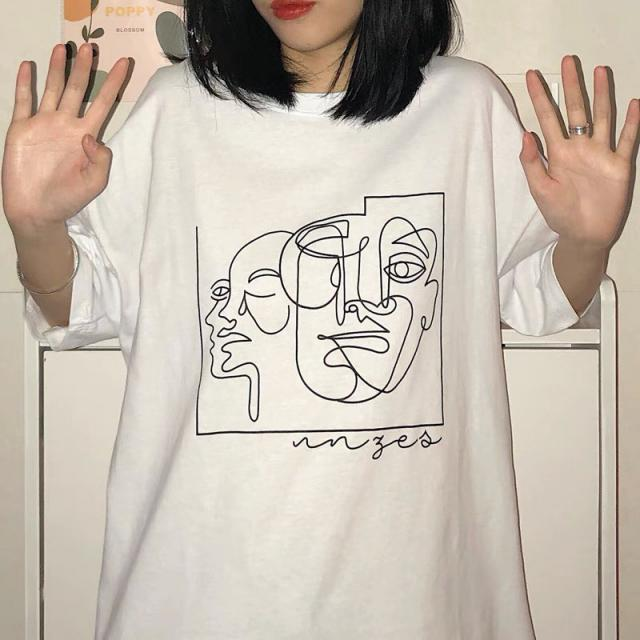shirt: (25, 51, 597, 639)
